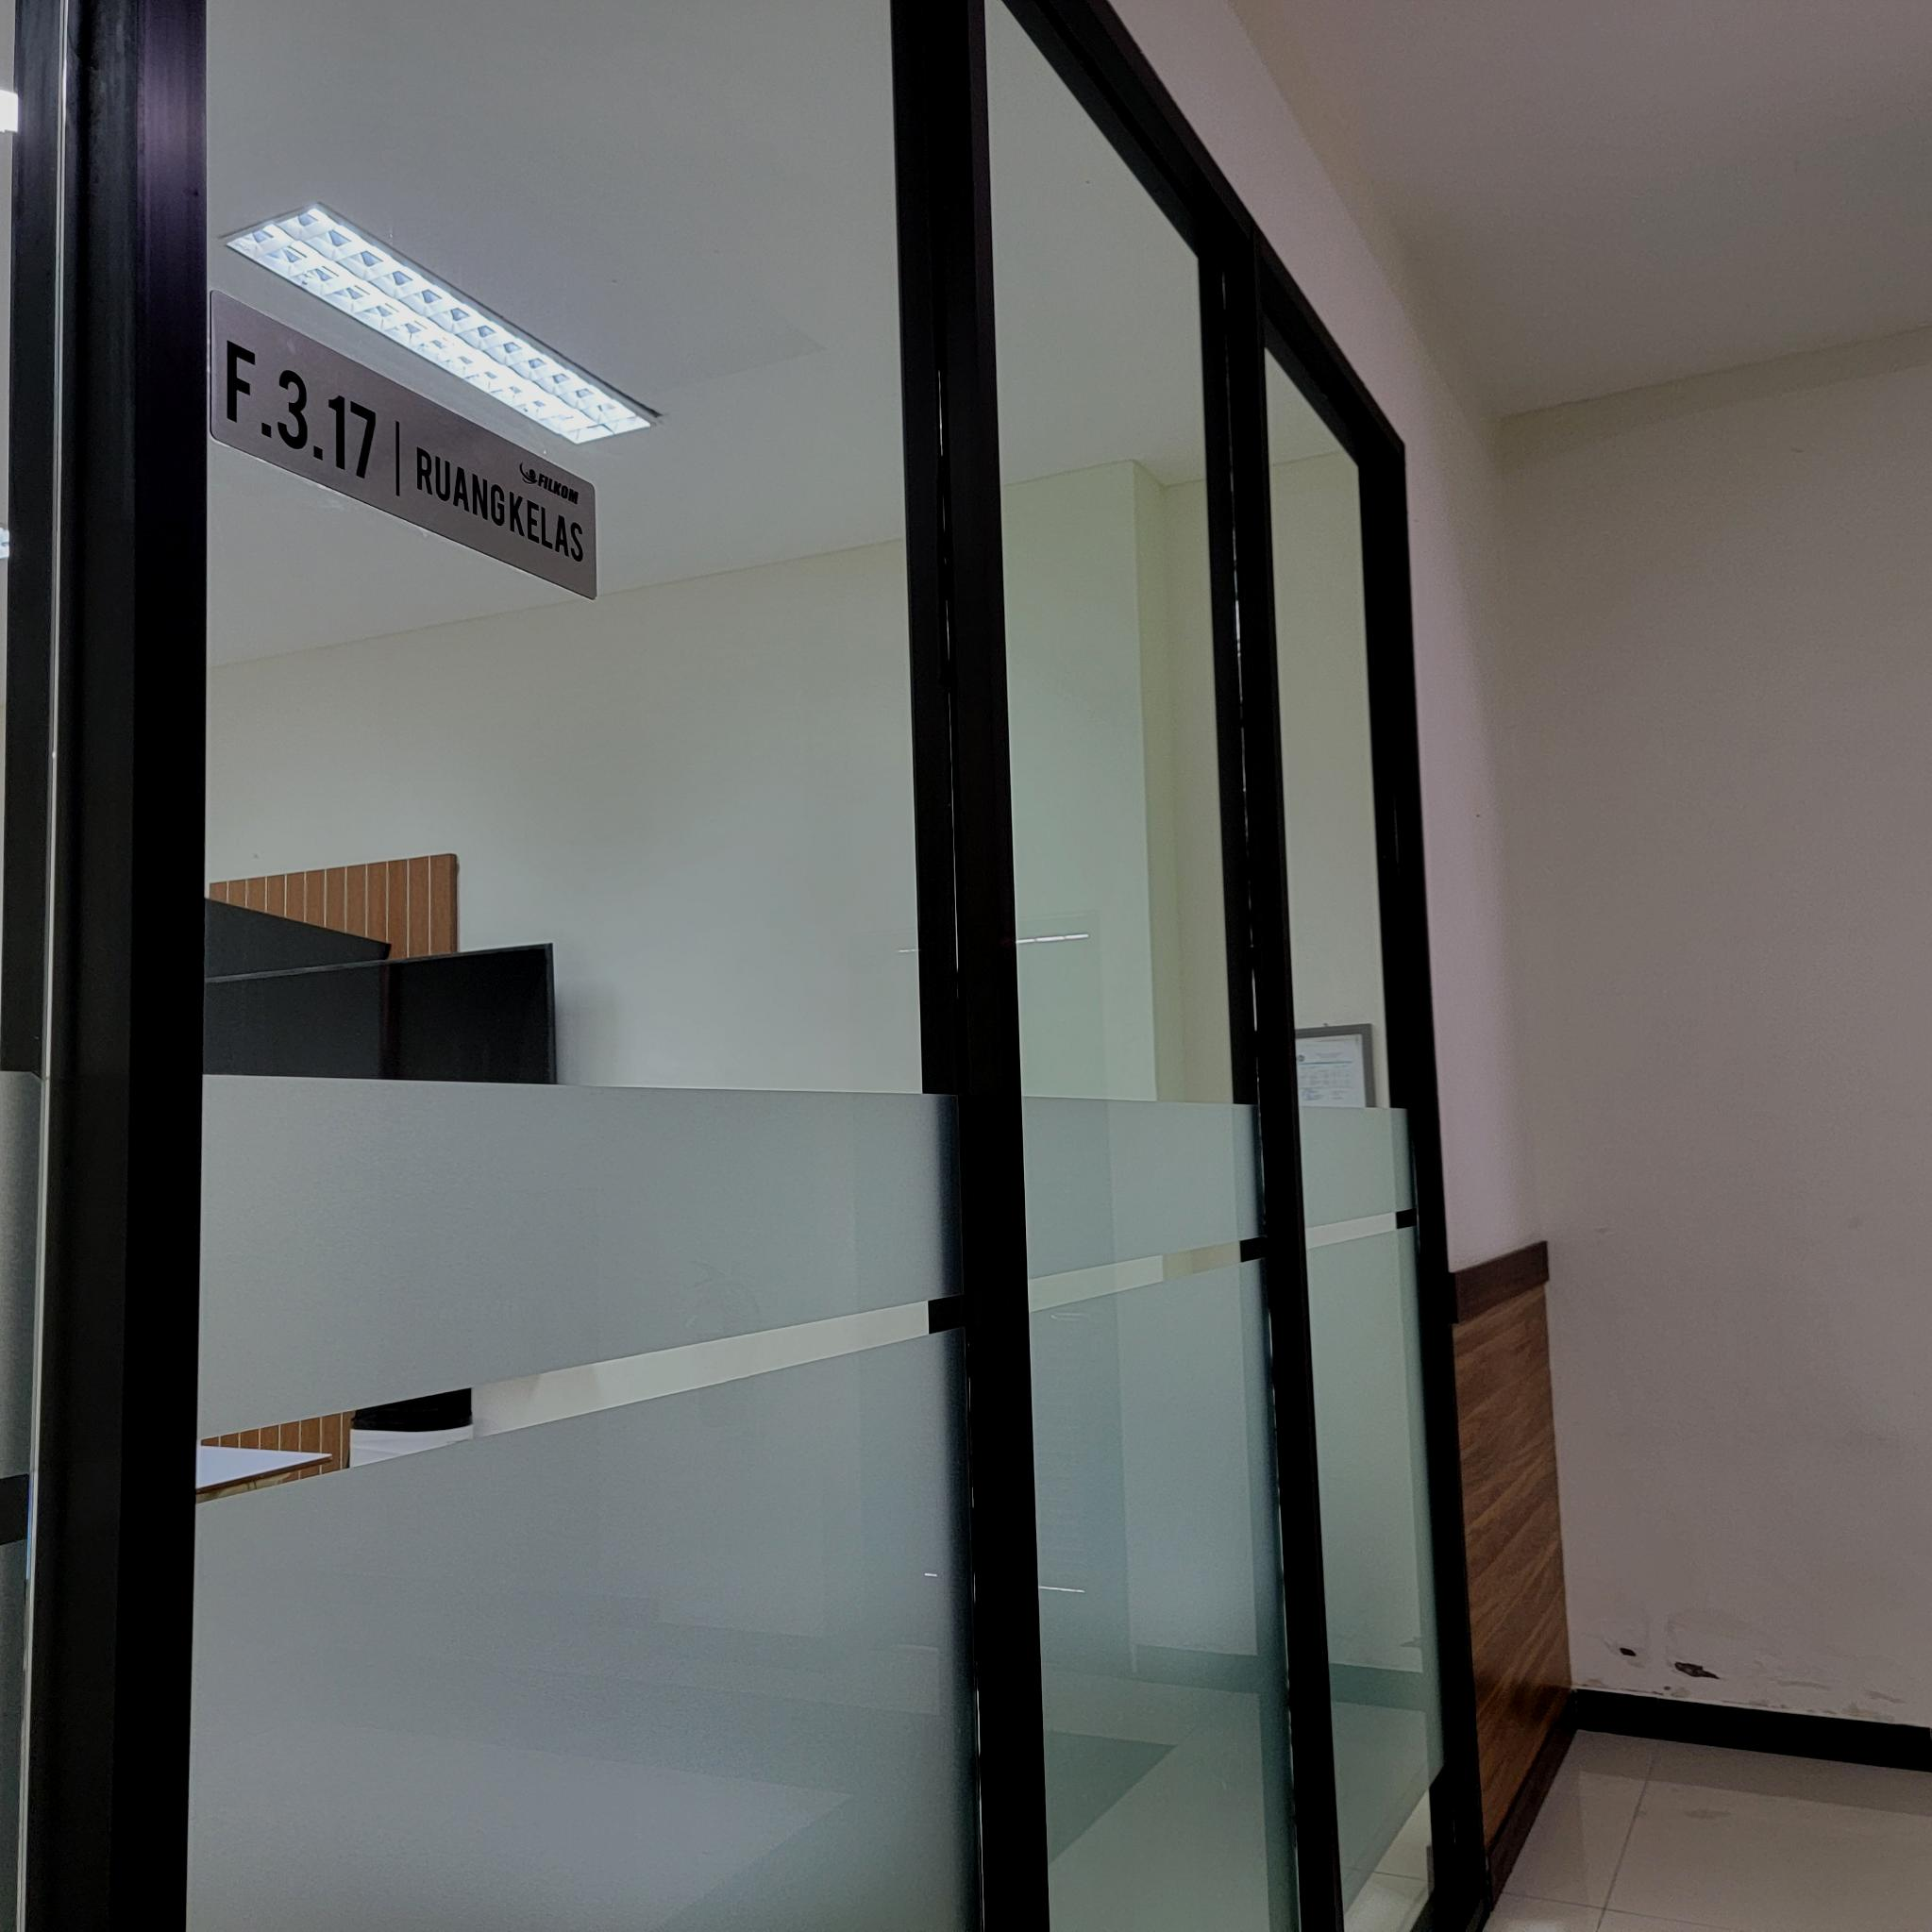plate: (209, 285, 596, 603)
